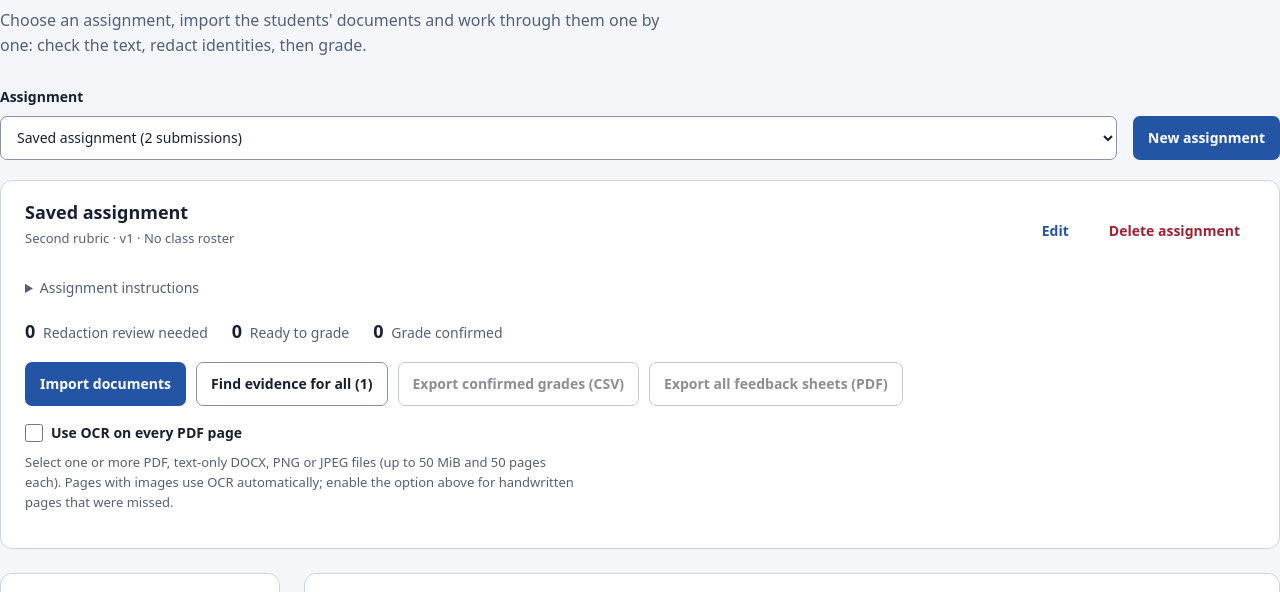
it: imports several documents in sequence and reports failures without stopping
The width and height of the screenshot is (1280, 592).
What coordinates should you click on to do the following:
click the button "Import documents"
I would click on:
 (106, 384)
Its box is x1=25 y1=362 x2=186 y2=406.
(page scrolled)
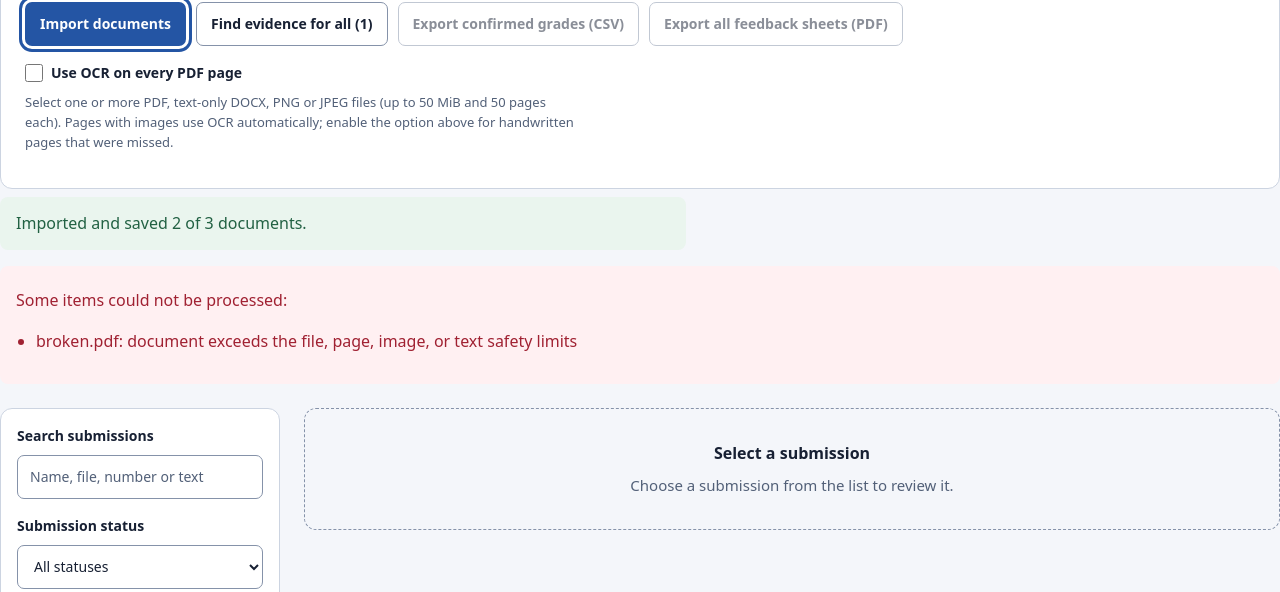
Now the text "Imported and saved 2 of 3 documents." is shown, box x1=0 y1=197 x2=686 y2=250
Now the message that starts with "Some items could not be processed:" shows "broken.pdf: document exceeds", box x1=36 y1=330 x2=577 y2=352
